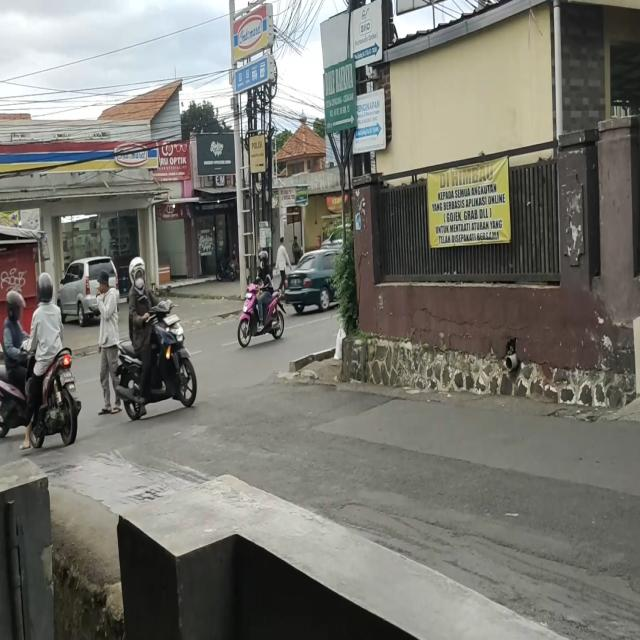helmet: (5, 290, 25, 326), (129, 256, 147, 290), (37, 270, 54, 304), (258, 248, 269, 273)
